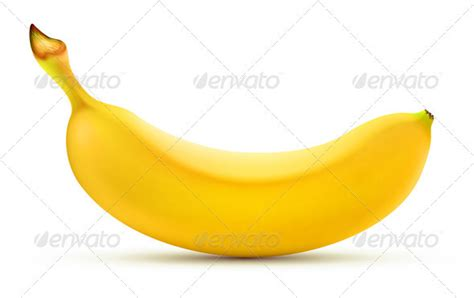???: (29, 24, 434, 259)
